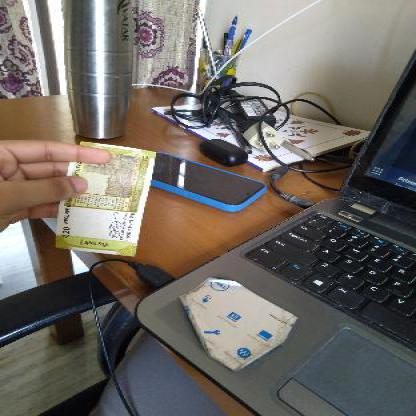New20Back: (56, 142, 156, 256)
